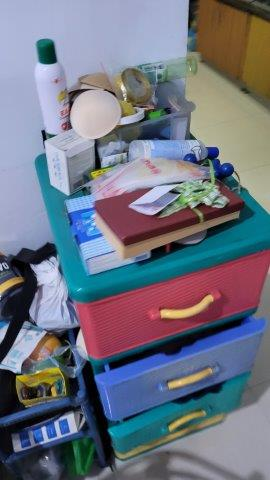plastik: (89, 156, 164, 199)
